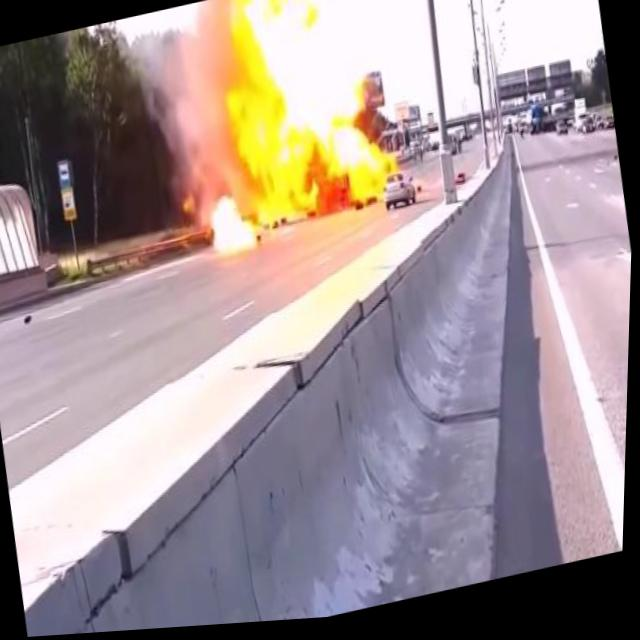fire: (203, 0, 403, 237), (198, 183, 269, 268)
